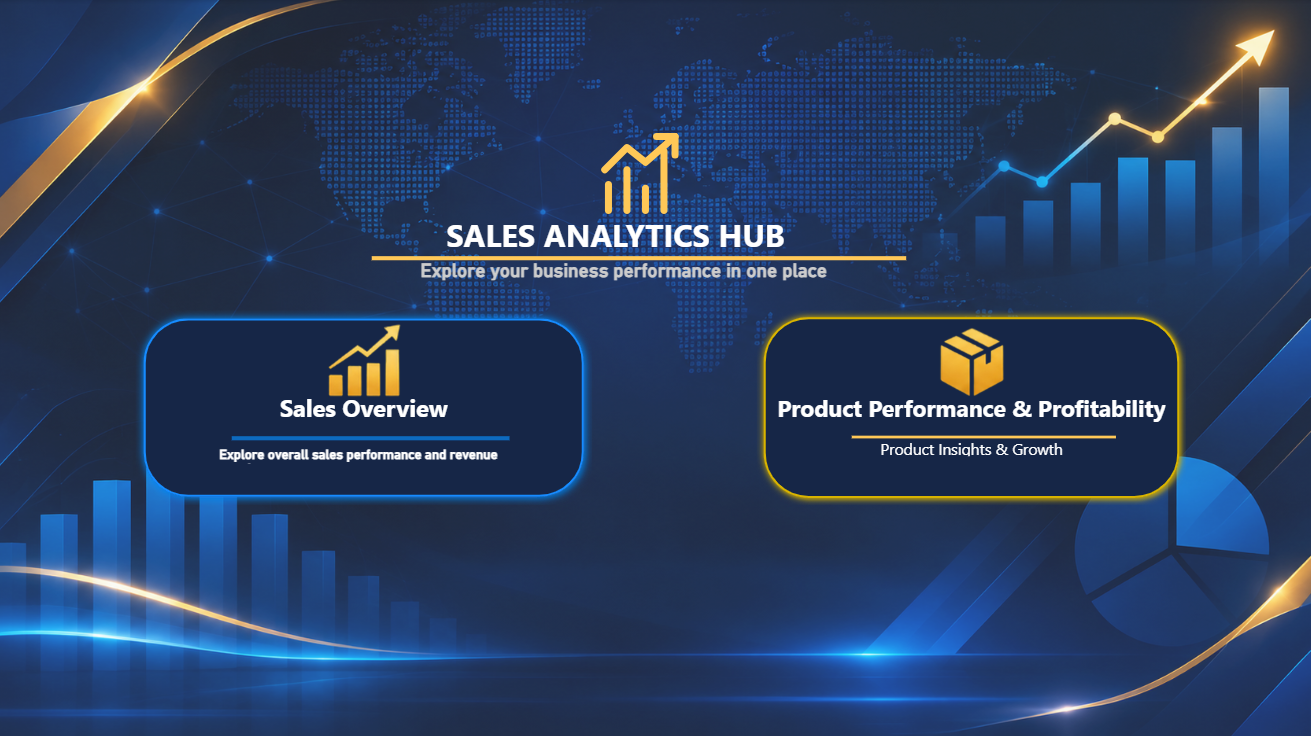

This screenshot's page, from the dashboard's own definition file:
{"tool":"powerbi","page":{"name":"SALES ANALYTICS HUB","canvas":[1920,1080],"ordinal":0},"visuals":[{"type":"shape","box":[475.5,288.2,850.1,111.1],"z":0},{"type":"image","box":[835.7,195.5,207.9,129.7],"z":1000},{"type":"textbox","title":"Explore your business performance in one place","box":[616.1,378.6,596.9,41.2],"z":2000},{"type":"shape","box":[544.6,228.6,780.1,300.5],"z":3000},{"type":"shape","box":[200,453.6,666.1,283.9],"z":4000},{"type":"shape","title":"Explore overall sales performance and revenue trends.","box":[323.2,653.6,417.8,24.7],"z":5000},{"type":"image","box":[451.8,471.4,164.7,113.2],"z":6000},{"type":"shape","box":[341.1,632.1,405.4,16.1],"z":7000},{"type":"shape","box":[1107.1,453.6,626.8,283.9],"z":8000},{"type":"image","box":[1355.4,476.8,131.7,107],"z":9000},{"type":"shape","box":[1271.4,639.3,298.5,30.9],"z":10000},{"type":"shape","box":[1246.4,632.1,385.7,12.5],"z":11000}]}

Visuals, with their boxes in screenshot pixels (x1, y1, x2, y2), scaled from the page's 1920x1080 canvas onto the 1311x736 screenshot:
shape: crop(325, 196, 905, 272)
image: crop(571, 133, 713, 222)
"Explore your business performance in one place" textbox: crop(421, 258, 828, 286)
shape: crop(372, 156, 905, 361)
shape: crop(137, 309, 591, 503)
"Explore overall sales performance and revenue trends." shape: crop(221, 445, 506, 462)
image: crop(308, 321, 421, 398)
shape: crop(233, 431, 510, 442)
shape: crop(756, 309, 1184, 503)
image: crop(925, 325, 1015, 398)
shape: crop(868, 436, 1072, 457)
shape: crop(851, 431, 1114, 439)
